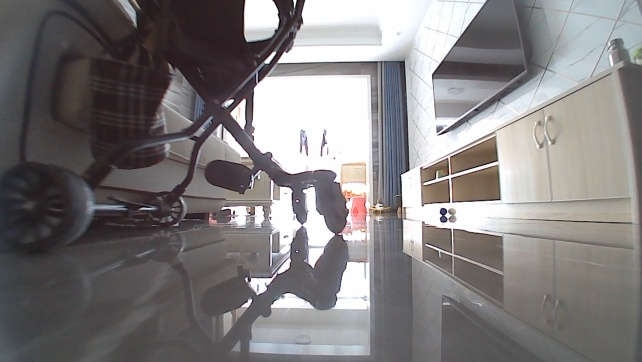TV_stand: (397, 60, 641, 227)
sofa1: (0, 0, 245, 221)
